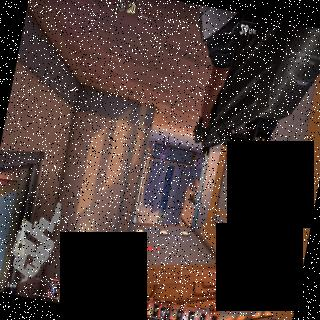ENEMY-BODY: (157, 134, 170, 164)
ENEMY-HEAD: (160, 159, 163, 163)
